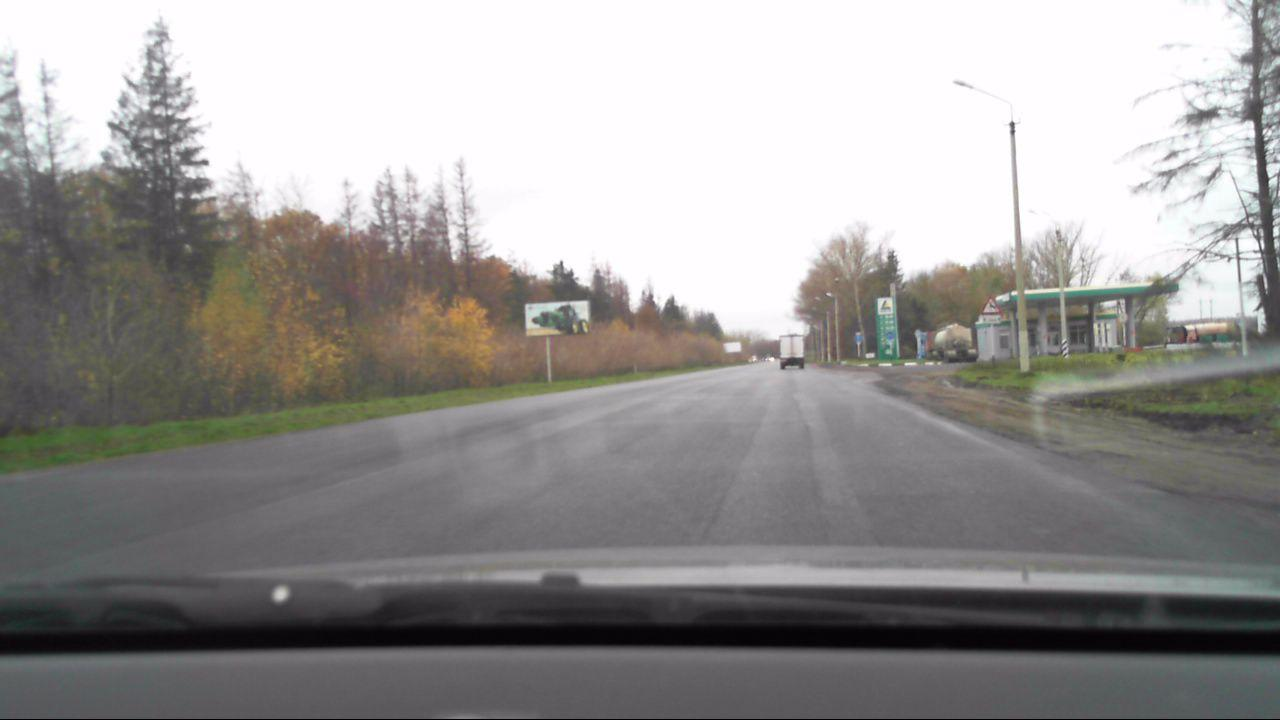1_27: (980, 297, 999, 313)
4_1_1: (853, 334, 863, 344)
4_2_3: (886, 331, 894, 339)
8_2_1: (978, 315, 1003, 325)
